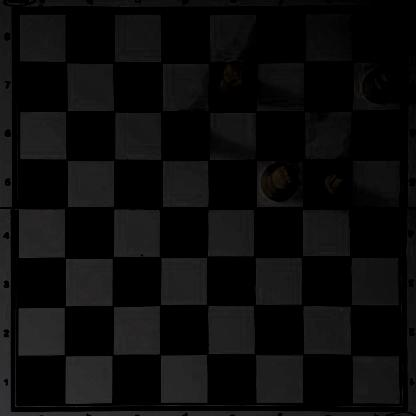black-king: (165, 109, 204, 153)
black-rook: (358, 1, 403, 53)
white-bishop: (310, 166, 350, 204)
white-king: (258, 161, 299, 202)
white-pawn: (361, 66, 397, 103)
white-rook: (214, 61, 253, 104)
